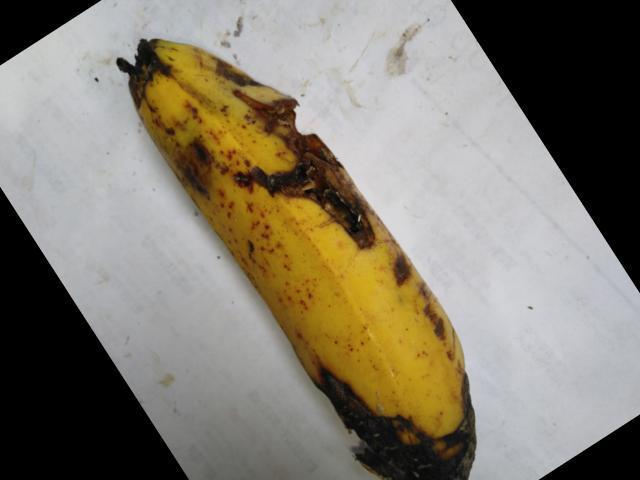rotten: (104, 32, 399, 246), (296, 344, 519, 479)
